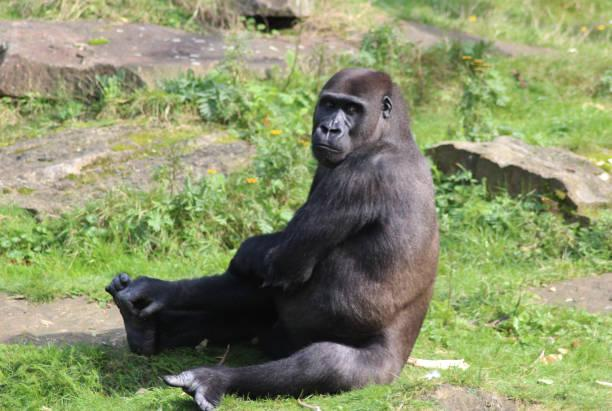gorille_Autres: (111, 48, 512, 405)
